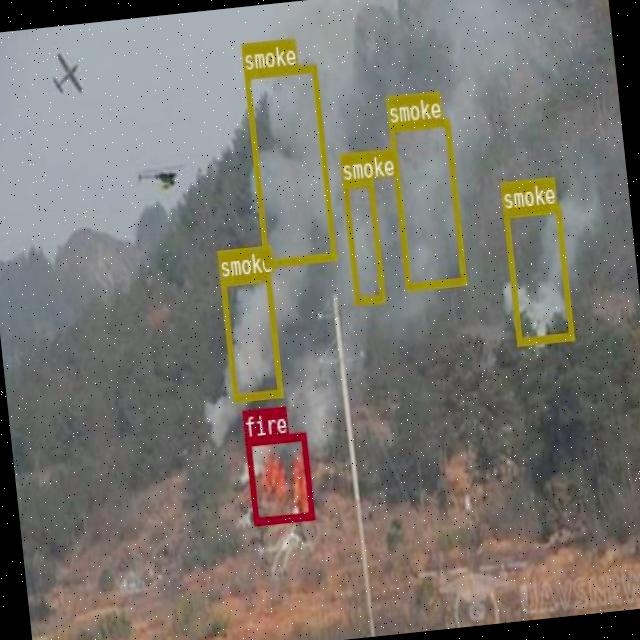fire: (244, 430, 313, 524)
smoke: (243, 64, 335, 266), (388, 117, 465, 289), (502, 202, 572, 344), (219, 272, 282, 400), (341, 178, 384, 304)
